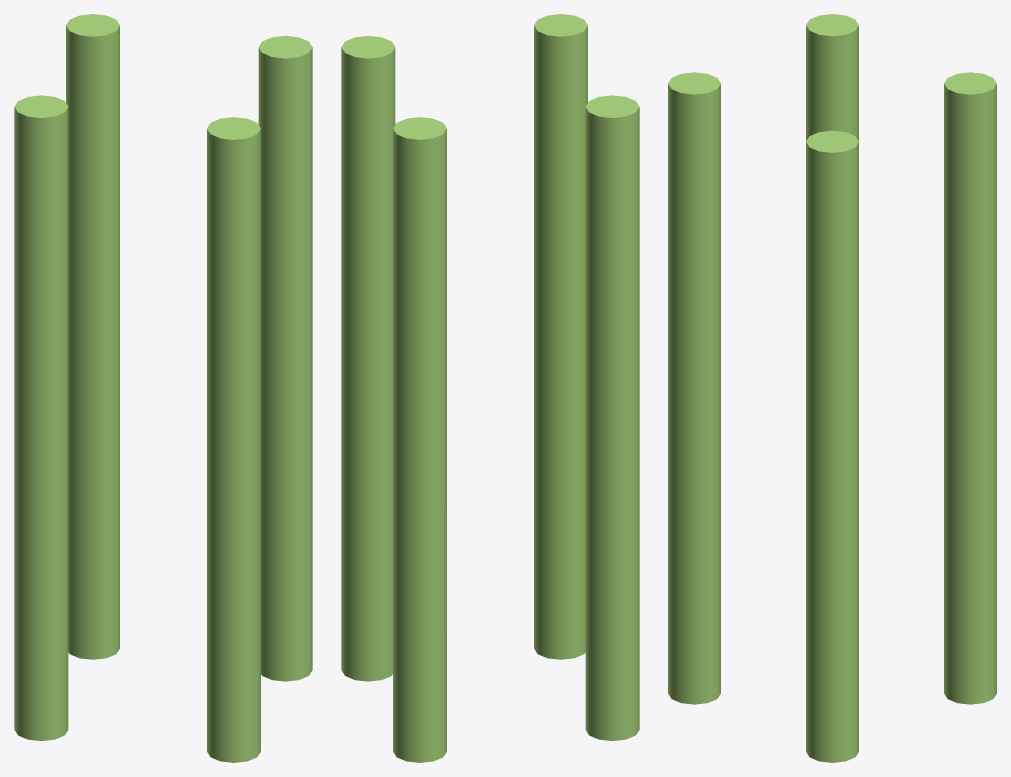
The model's file is Pillar_02_Lod0.fbx.
3 views of the same model, side by side, from view 1: azimuth 30°, elevation 25°; view 2: azimuth 150°, elevation 25°; view 3: azimuth 270°, elevation 25° (orthographic). The views are drawn at different scales.
Parts seen in each view (by area): view 1: Pillar_02_Lod0; view 2: Pillar_02_Lod0; view 3: Pillar_02_Lod0.
Part boxes in pixels (x1,y1,x2,y2): Pillar_02_Lod0: (14, 14, 312, 762); Pillar_02_Lod0: (341, 14, 639, 762); Pillar_02_Lod0: (668, 14, 996, 762).
Bounding box in the file's own units: 147 × 300 × 147.
